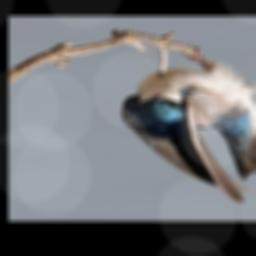Swallow: (120, 43, 256, 205)
